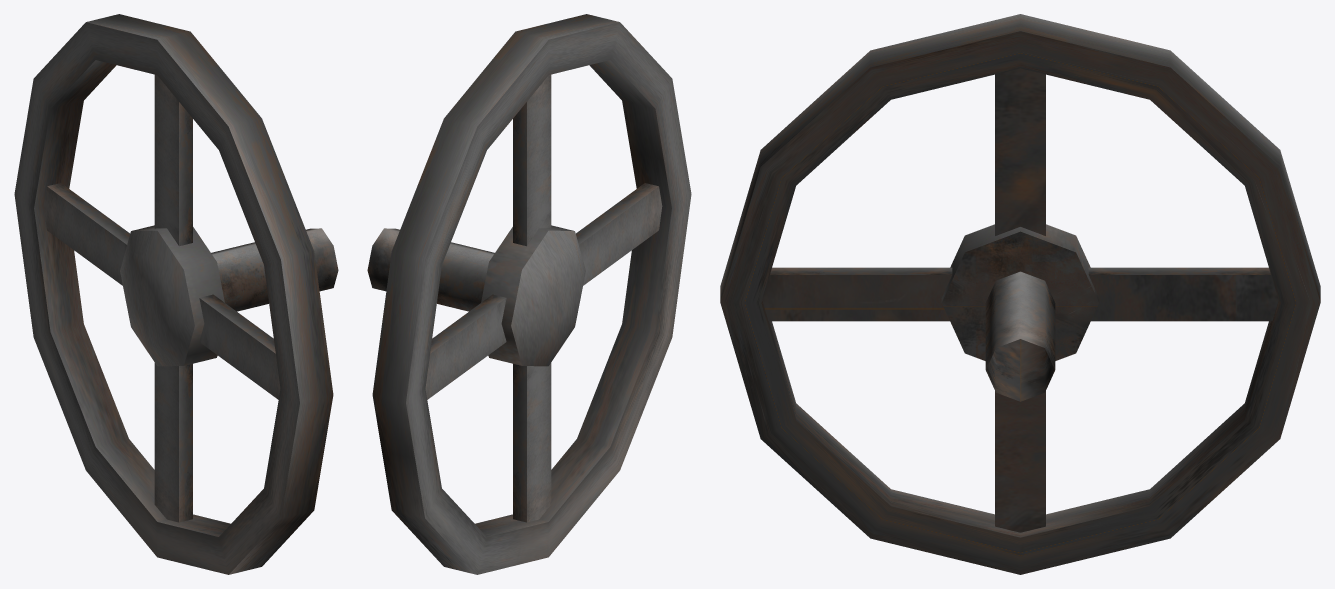
The model's file is Valve.fbx.
3 views of the same model, side by side, from view 1: azimuth 30°, elevation 25°; view 2: azimuth 150°, elevation 25°; view 3: azimuth 270°, elevation 25° (orthographic). The views are drawn at different scales.
Visible parts, largest first — view 1: Valve; view 2: Valve; view 3: Valve.
Boxes of the visible parts, left/top/right/bottom form: Valve: left=14, top=14, right=338, bottom=574; Valve: left=367, top=14, right=691, bottom=574; Valve: left=720, top=14, right=1320, bottom=574.
Bounding box in the file's own units: 71.55 × 200 × 200.
